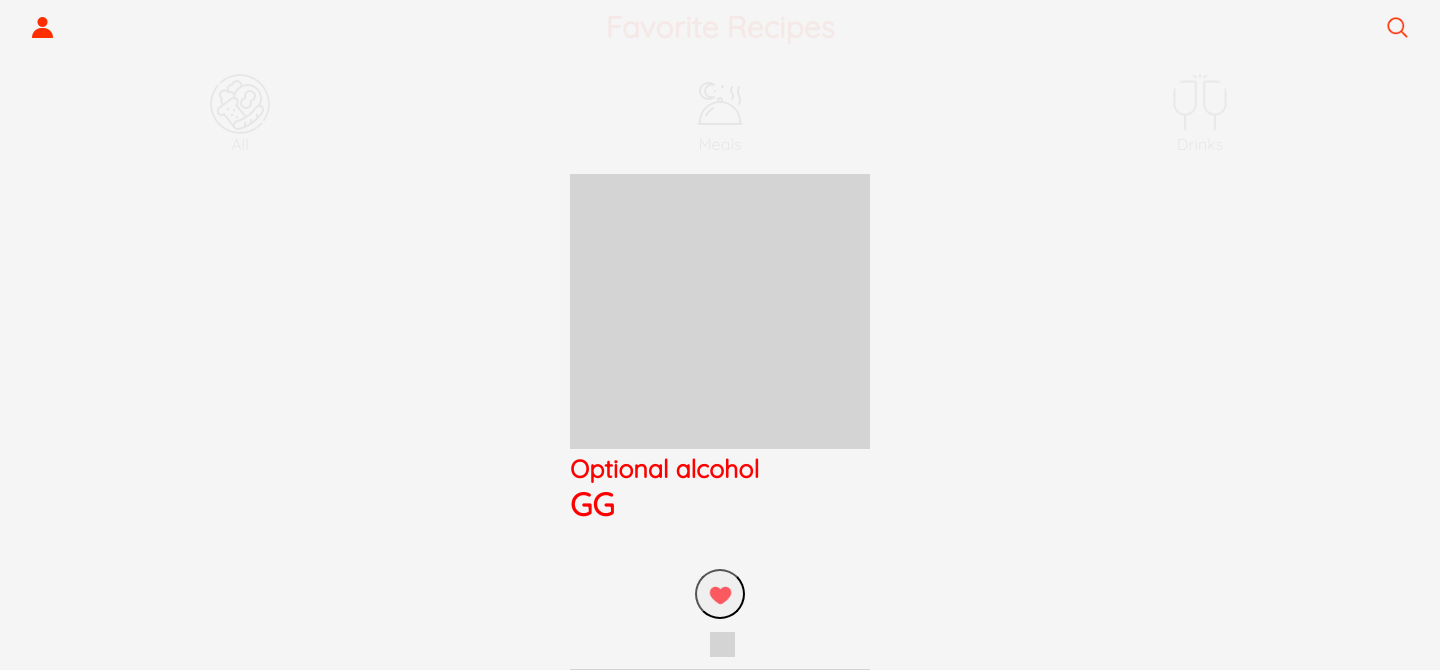
Testa FavoritePage › Testa se ao clicar no botao o favorito some
Check: the heading with test id "0-horizontal-name" reads "GG", box [570,484,614,524]
Click the button with test id "0-horizontal-favorite-btn" at [720, 594], box [695,569,745,619]
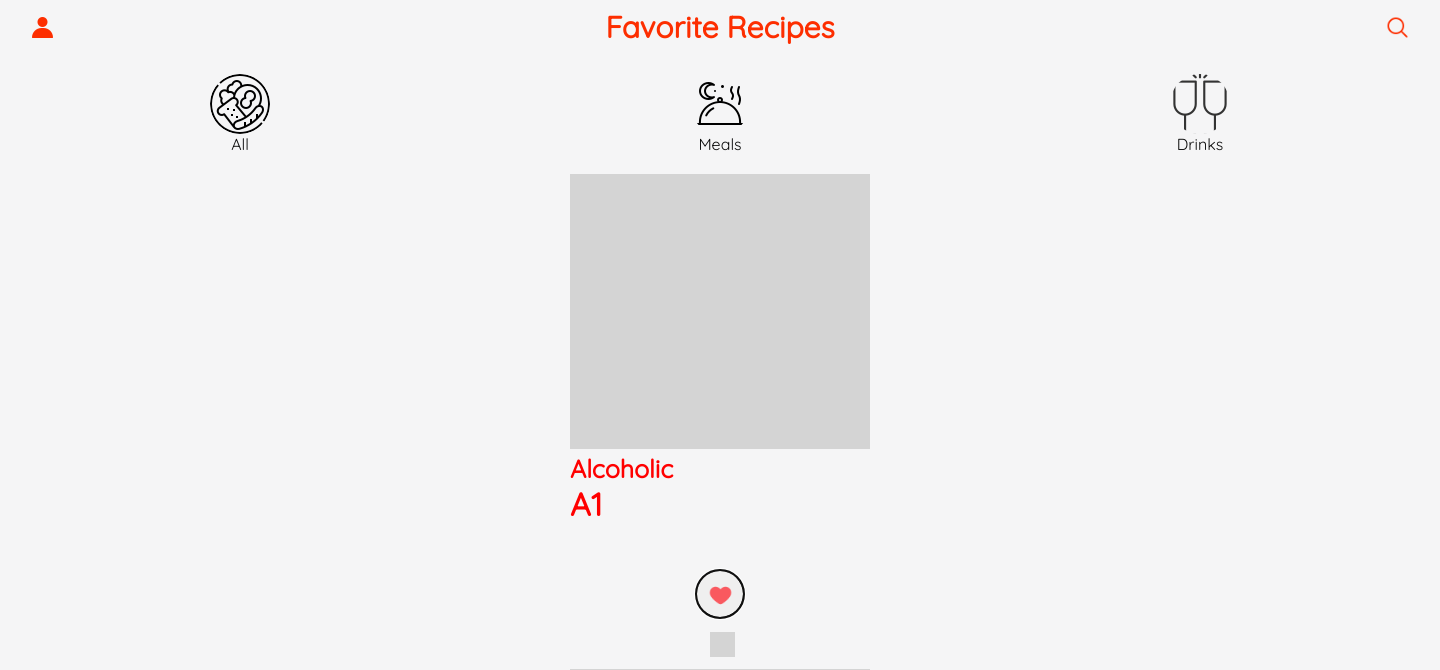
Check: the heading with test id "0-horizontal-name" no longer shows "GG", box [570,484,602,524]
